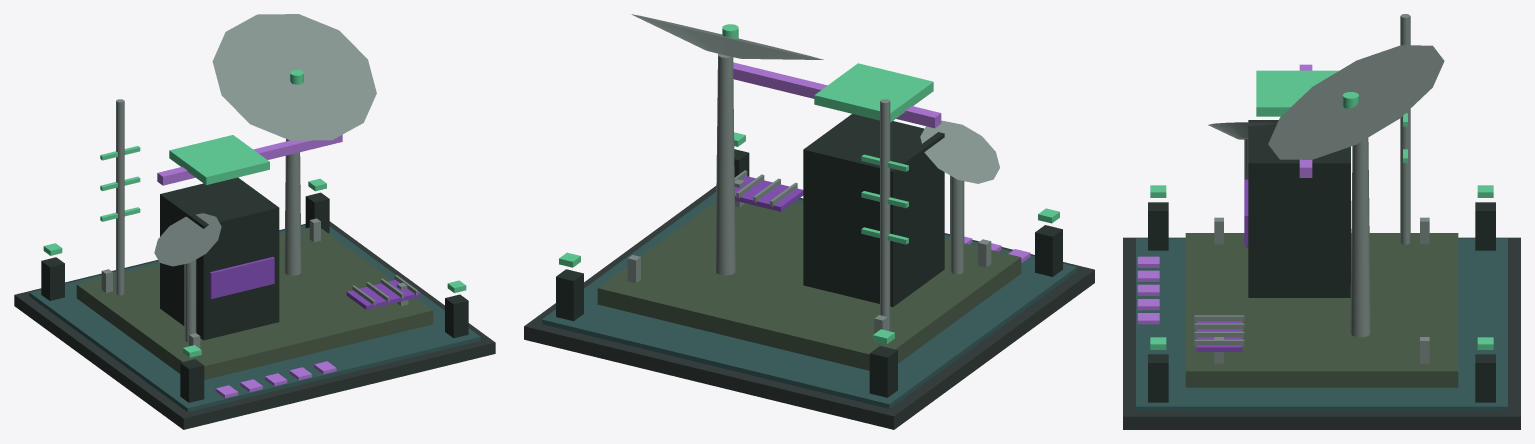
File: signal_l05.glb
The picture shows the model from 3 angles, left to right: view 1: azimuth 30°, elevation 25°; view 2: azimuth 150°, elevation 25°; view 3: azimuth 270°, elevation 25°; orthographic projection. The views are drawn at different scales.
Visible parts, largest first — view 1: signal_l05; view 2: signal_l05; view 3: signal_l05.
Part boxes in pixels (<box>): signal_l05: <box>14,14,495,429</box>; signal_l05: <box>524,14,1094,429</box>; signal_l05: <box>1123,14,1520,429</box>.
Bounding box in the file's own units: 6.6 × 5.34 × 6.2.
